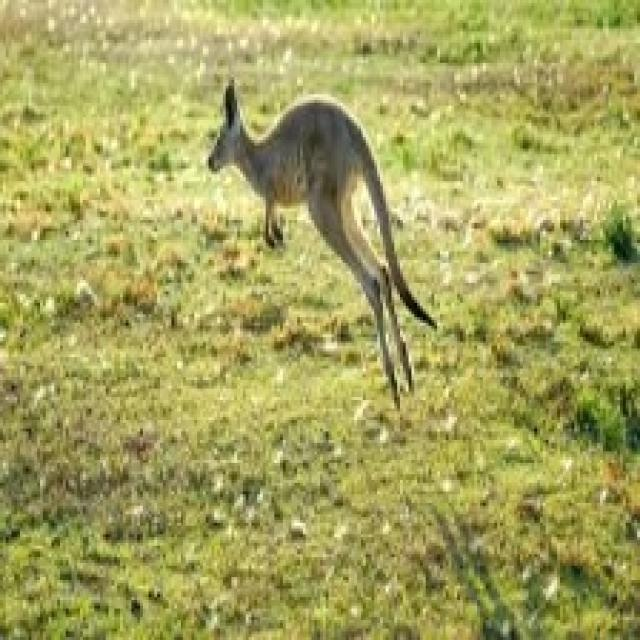animal: (191, 94, 483, 463)
